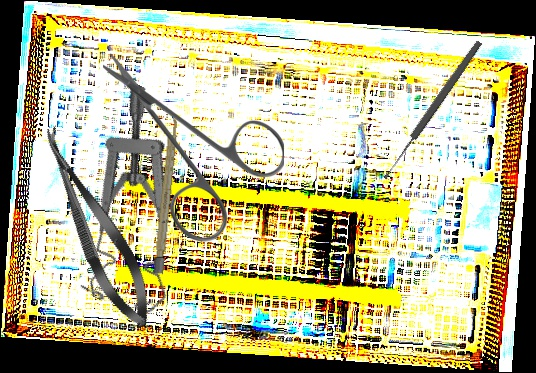Iris Scissors: (103, 53, 284, 242)
Micro Scissor: (27, 119, 164, 336)
Scalpel Handle: (153, 113, 180, 275)
Speculum: (39, 81, 245, 326)
Surgical Spoon: (380, 39, 484, 181)
